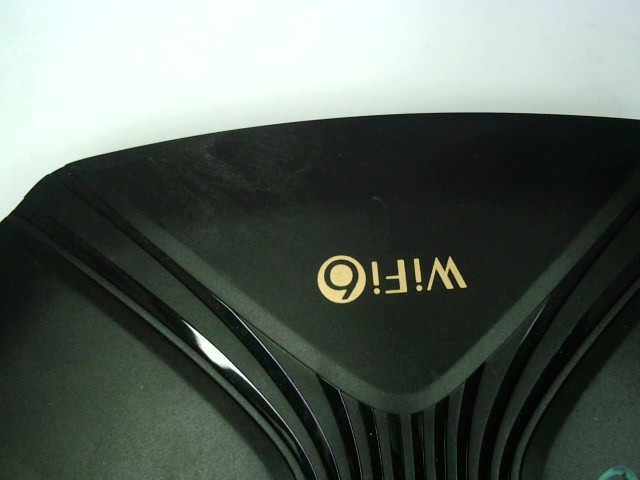AK_ZTEWIFI6Black: (296, 235, 490, 307)
